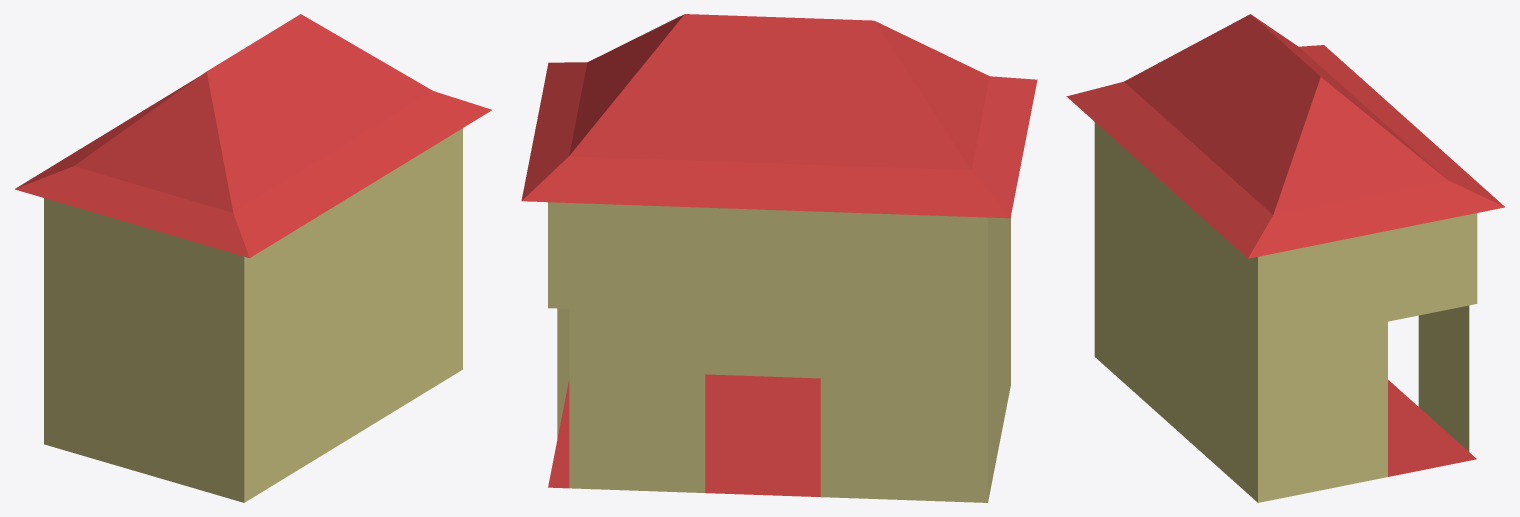
The picture shows the model from 3 angles, left to right: view 1: azimuth 30°, elevation 25°; view 2: azimuth 150°, elevation 25°; view 3: azimuth 270°, elevation 25°; orthographic projection. The views are drawn at different scales.
Bounding box in the file's own units: 17.78 × 15.43 × 14.06.
